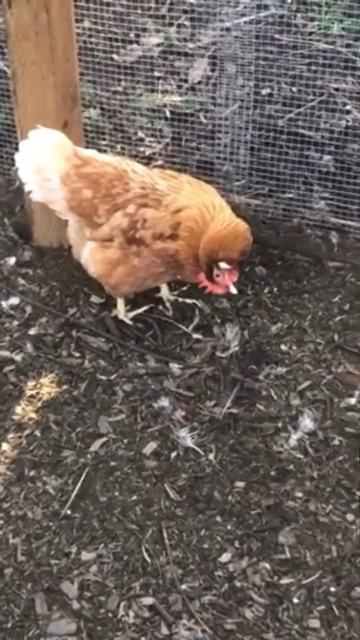AbNormal: (19, 130, 262, 325)
